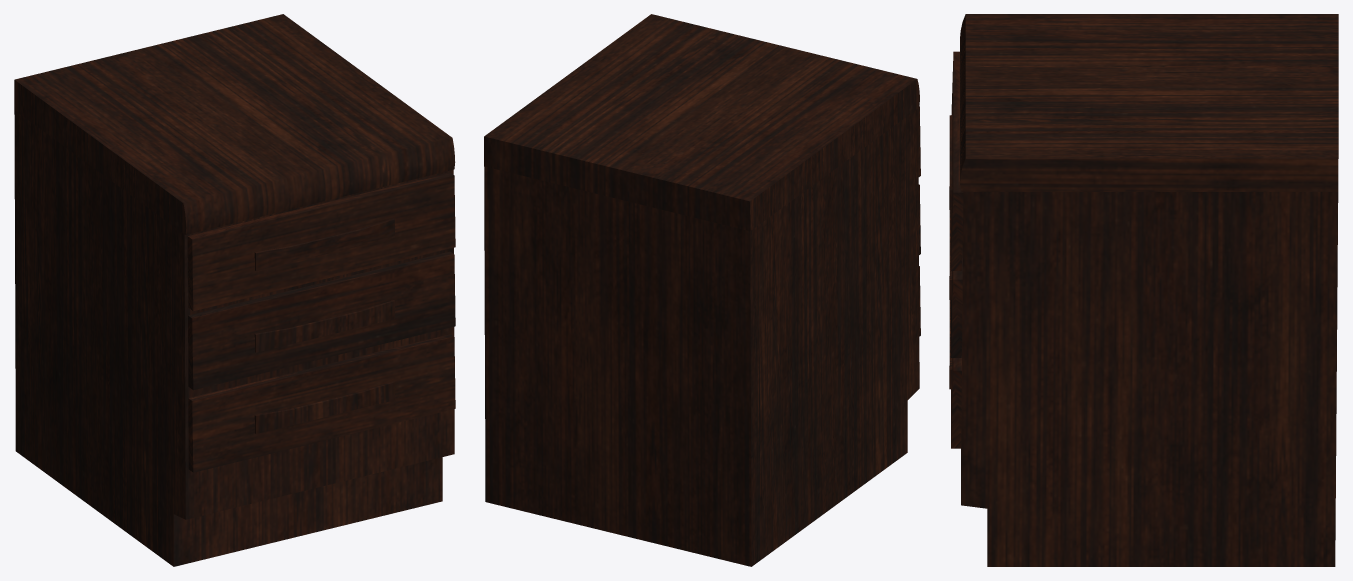
File: Alacena3.obj
The picture shows the model from 3 angles, left to right: view 1: azimuth 30°, elevation 25°; view 2: azimuth 150°, elevation 25°; view 3: azimuth 270°, elevation 25°; orthographic projection. The views are drawn at different scales.
Parts seen in each view (by area): view 1: Cabinet_9:caninet_3; view 2: Cabinet_9:caninet_3; view 3: Cabinet_9:caninet_3.
Boxes of the visible parts, x1=… form: Cabinet_9:caninet_3: x1=14, y1=14, x2=455, y2=566; Cabinet_9:caninet_3: x1=484, y1=14, x2=920, y2=566; Cabinet_9:caninet_3: x1=949, y1=14, x2=1338, y2=566.
Bounding box in the file's own units: 2.83 × 3.73 × 3.22.
